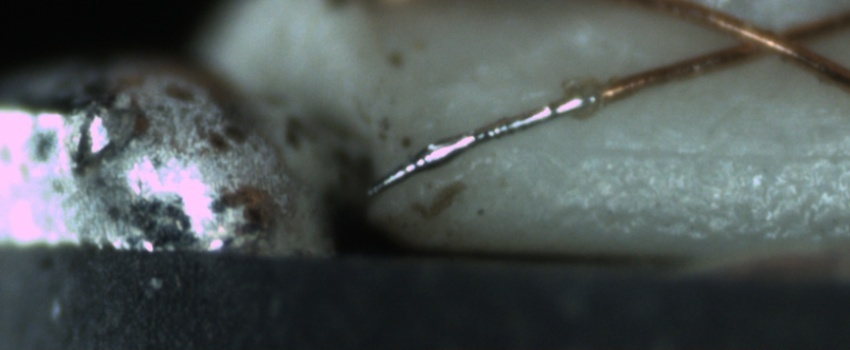CL: (704, 9, 830, 66)
DL: (584, 118, 850, 183)
TS: (358, 94, 593, 201)
TTCW: (359, 69, 651, 198)
